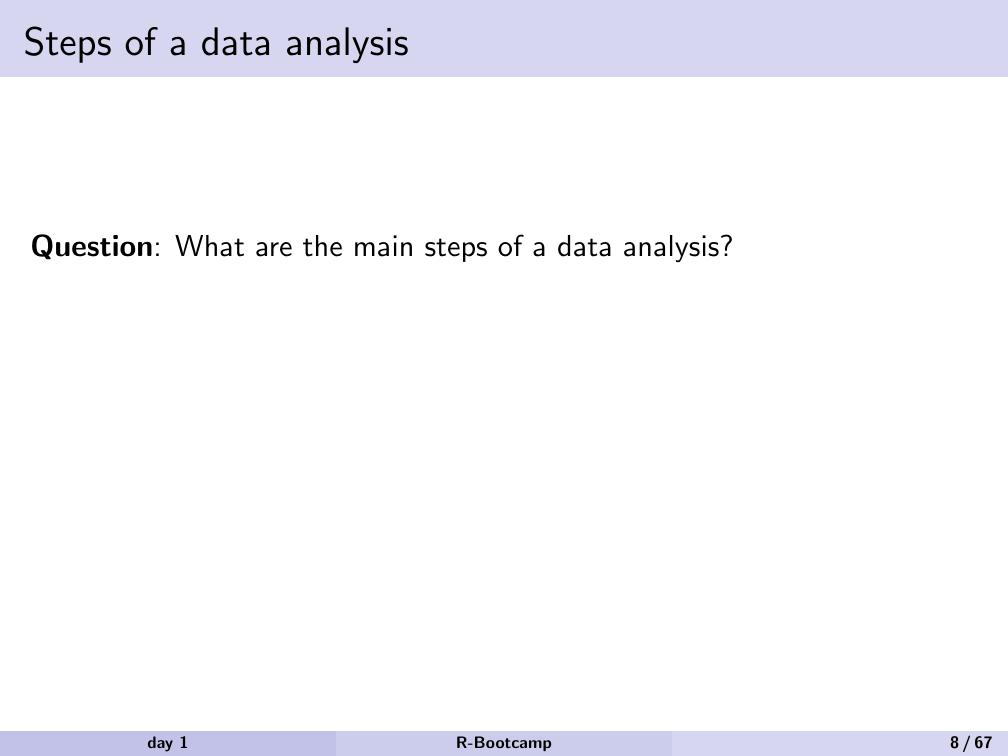Title: (19, 17, 417, 69)
